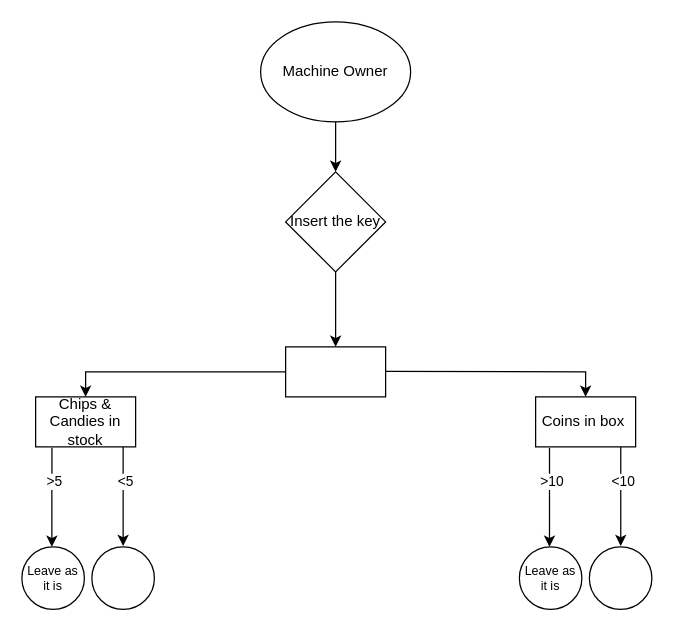
The diagram is 674 pixels wide and 631 high, and some of its shapes have lost their labels. Here are the shapes that lost their labels. From the top down, the centre of each, then its label:
point (335, 371): Unlock the machine
point (122, 577): Restock the machine
point (620, 577): Empty the box
